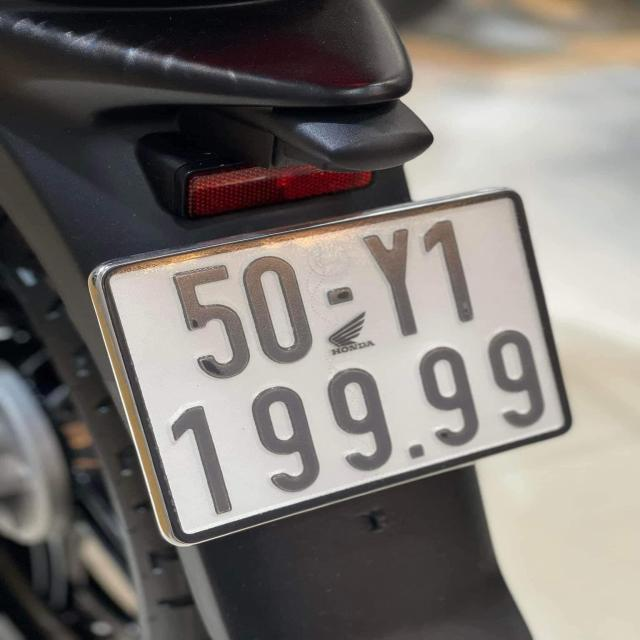0: (244, 252, 316, 369)
1: (163, 398, 238, 522), (414, 215, 484, 323)
5: (165, 258, 252, 382)
9: (248, 382, 322, 496), (326, 366, 394, 474), (414, 341, 481, 448), (485, 326, 550, 433)
V: (358, 224, 427, 340)
